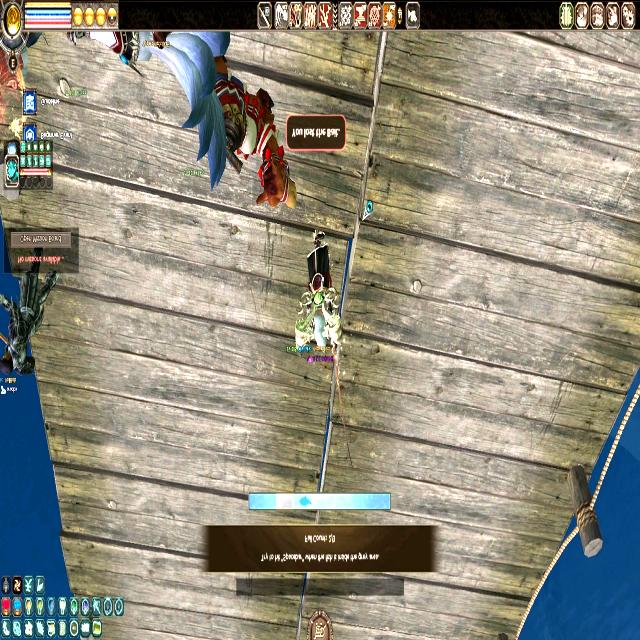fishes: (298, 494, 312, 508)
